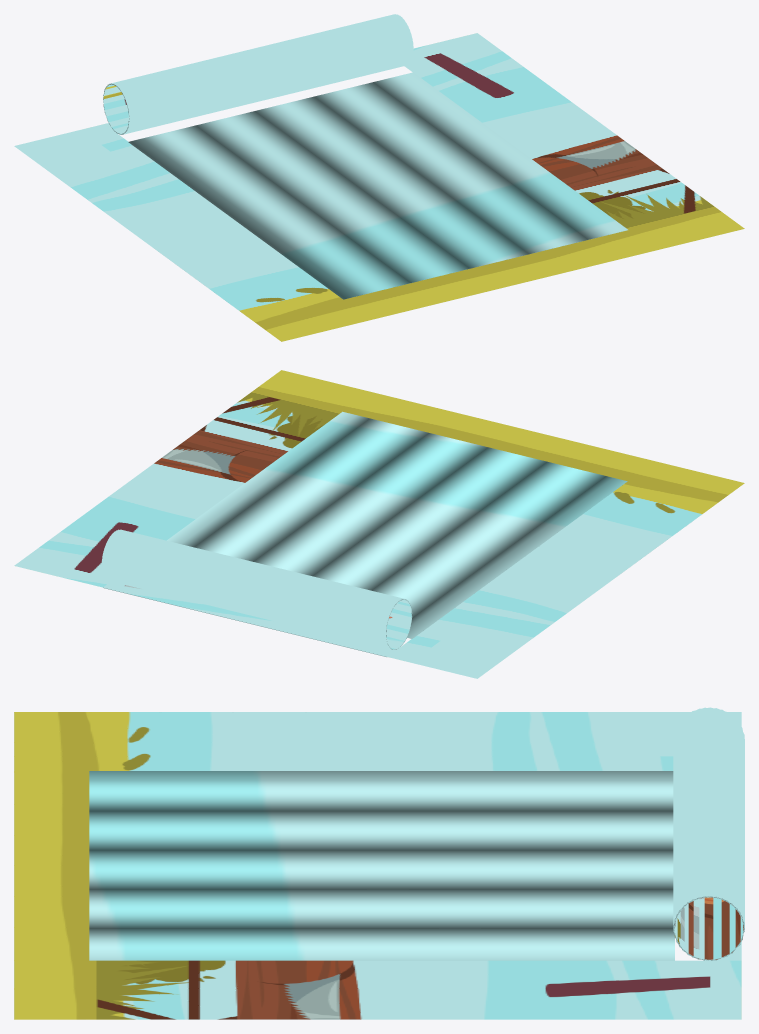
3 renders of one model, top to bottom at view 1: azimuth 30°, elevation 25°; view 2: azimuth 150°, elevation 25°; view 3: azimuth 270°, elevation 25°, orthographic. The views are drawn at different scales.
Parts seen in each view (by area): view 1: tree_02, mesh, tree_01; view 2: mesh, tree_02, tree_01; view 3: tree_02, mesh, tree_01.
Boxes of the visible parts, x1,y1,x2,y2 form: tree_02: (128, 72, 627, 299); mesh: (14, 33, 744, 341); tree_01: (103, 14, 413, 134); mesh: (14, 370, 744, 678); tree_02: (167, 411, 627, 638); tree_01: (101, 529, 412, 656); tree_02: (89, 771, 674, 960); mesh: (14, 712, 741, 1019); tree_01: (673, 707, 744, 960).
Size of the model in its own units: 2400 by 237 by 2411.
